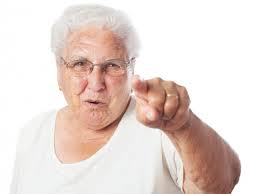hand: (128, 68, 200, 140)
